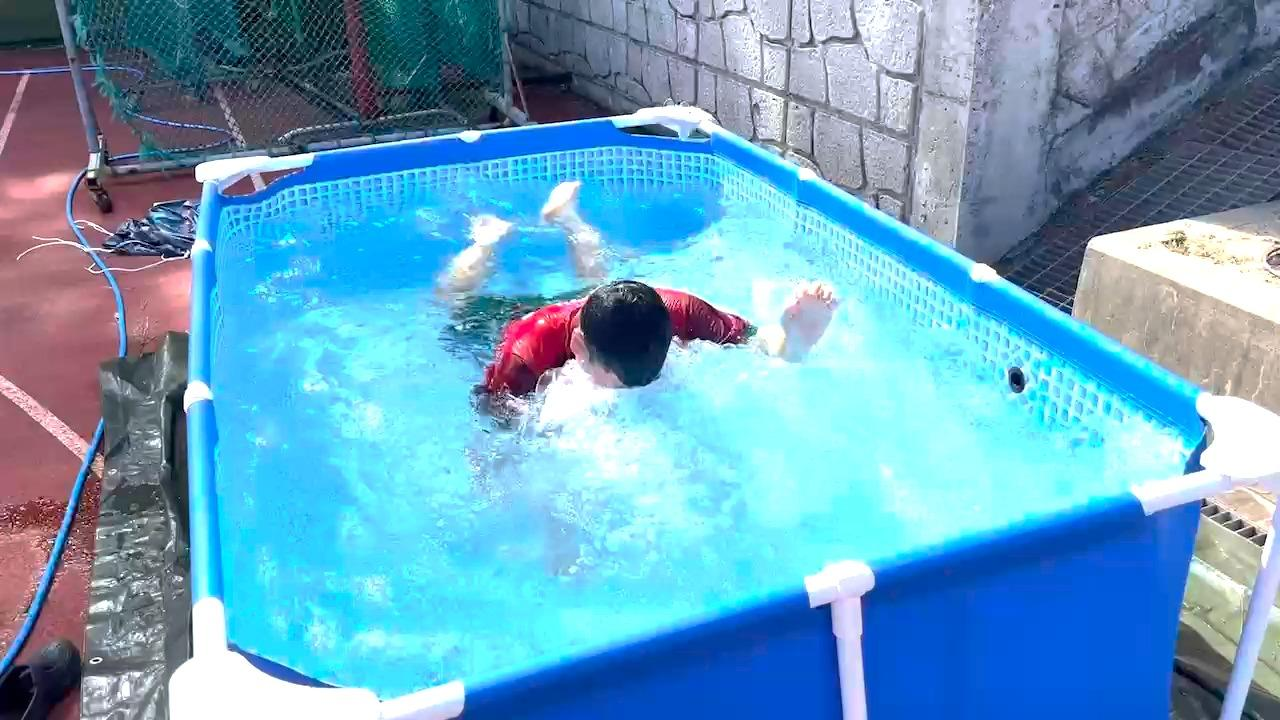Drowning: (440, 211, 835, 433)
